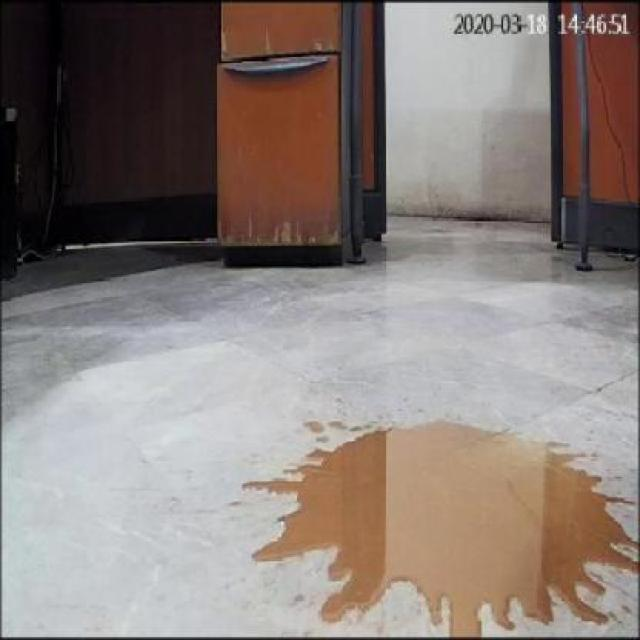spillage: (249, 422, 637, 636)
